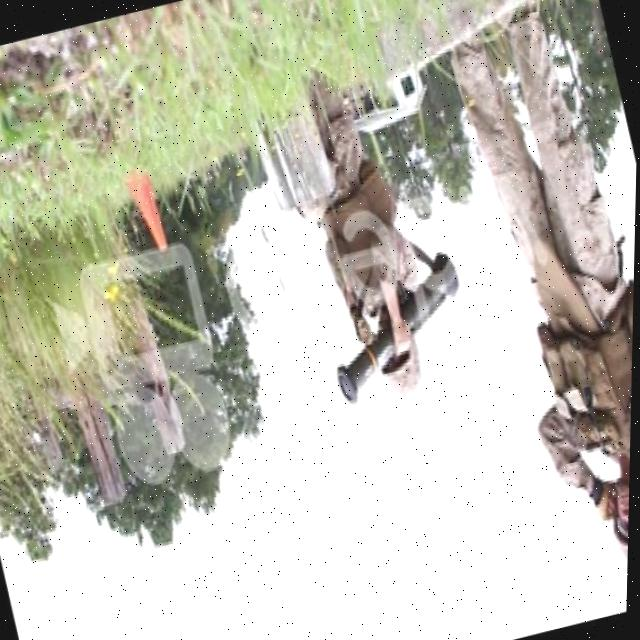rocket: (312, 242, 485, 412)
